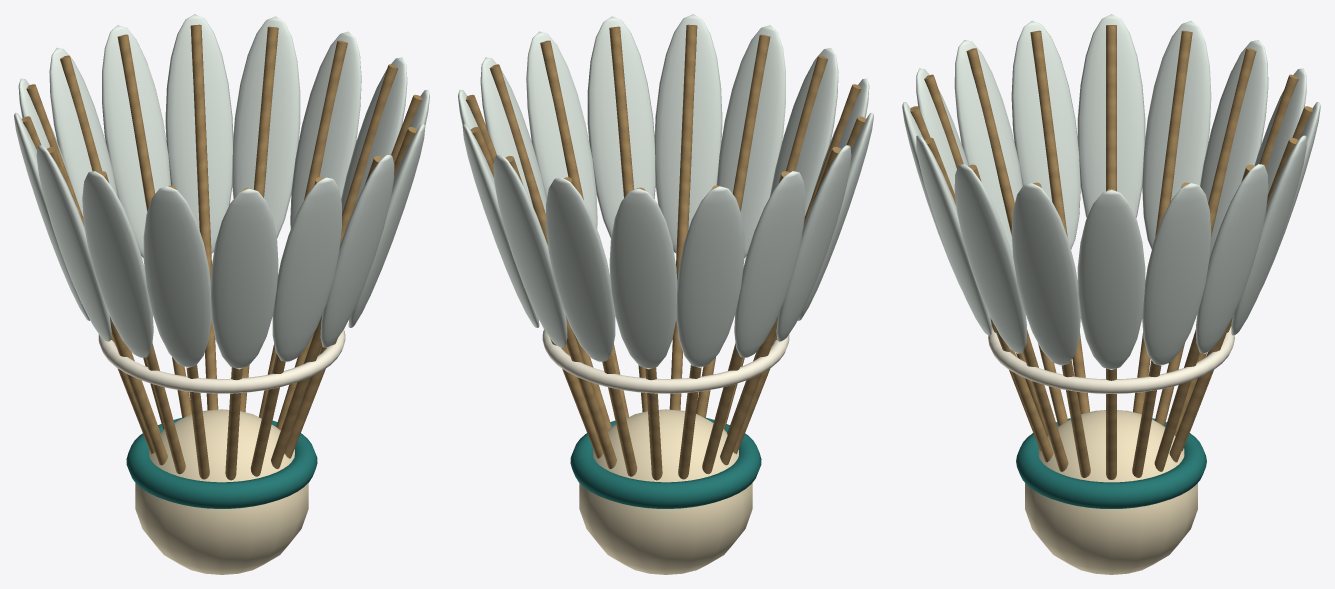
Rendered from shuttle-fa7a04130a33.glb.
3 renders of one model, left to right at view 1: azimuth 30°, elevation 25°; view 2: azimuth 150°, elevation 25°; view 3: azimuth 270°, elevation 25°, orthographic.
Parts seen in each view (by area): view 1: surface_porcelain, surface_bamboo, surface_ivory, surface_teal, surface_white; view 2: surface_porcelain, surface_bamboo, surface_ivory, surface_teal, surface_white; view 3: surface_porcelain, surface_bamboo, surface_ivory, surface_teal, surface_white.
Part boxes in pixels (box(x1,y1,x2,y2)): surface_porcelain: box(14, 14, 429, 369); surface_bamboo: box(22, 24, 421, 480); surface_ivory: box(135, 409, 308, 574); surface_teal: box(126, 418, 317, 508); surface_white: box(98, 329, 345, 393); surface_porcelain: box(458, 14, 873, 369); surface_bamboo: box(466, 24, 865, 480); surface_ivory: box(579, 409, 752, 574); surface_teal: box(570, 418, 761, 508); surface_white: box(542, 329, 789, 393); surface_porcelain: box(902, 14, 1320, 369); surface_bamboo: box(910, 25, 1312, 479); surface_ivory: box(1025, 410, 1197, 574); surface_teal: box(1016, 418, 1206, 508); surface_white: box(988, 326, 1234, 393).
Size of the model in its own units: 0.0613 by 0.0751 by 0.0613.
5 materials, 1 textured.
